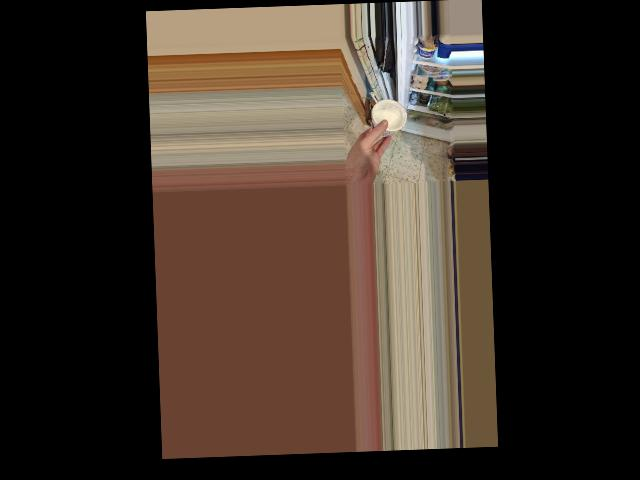cotage: (370, 96, 403, 139)
